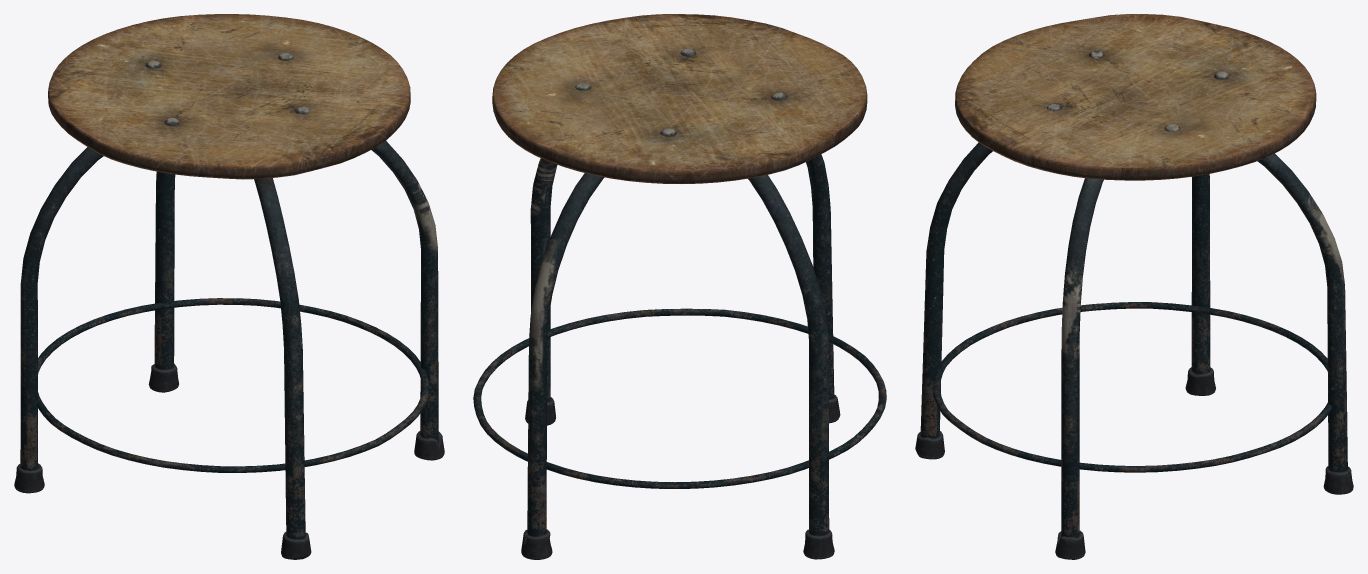
The model's file is ph_metal_stool_02.glb.
3 renders of one model, left to right at view 1: azimuth 30°, elevation 25°; view 2: azimuth 150°, elevation 25°; view 3: azimuth 270°, elevation 25°, orthographic. The views are drawn at different scales.
Visible parts, largest first — view 1: metal_stool_02; view 2: metal_stool_02; view 3: metal_stool_02.
Boxes of the visible parts, left/top/right/bottom form: metal_stool_02: left=14, top=14, right=444, bottom=559; metal_stool_02: left=473, top=14, right=886, bottom=559; metal_stool_02: left=915, top=14, right=1353, bottom=559.
Size of the model in its own units: 0.4481 by 0.4581 by 0.4731.
Materials: 1 (1 with a texture image).
